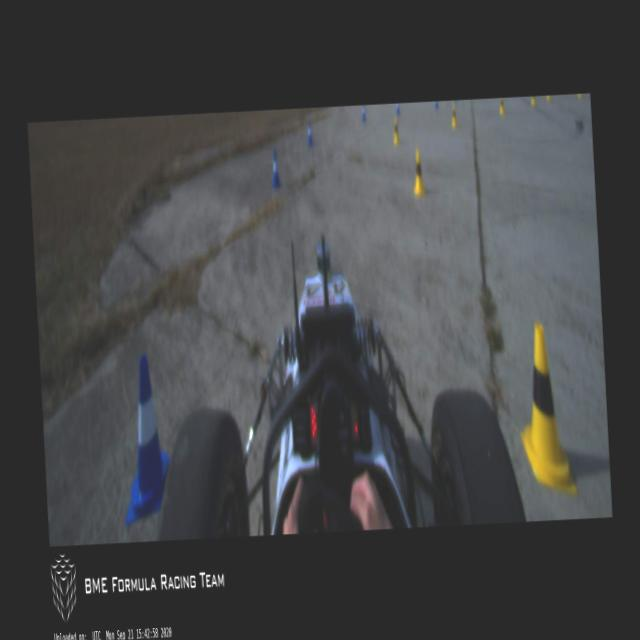blue_cone: (116, 354, 174, 524), (270, 150, 282, 190), (306, 120, 314, 148), (361, 105, 366, 122), (396, 104, 400, 117)
yellow_cone: (515, 324, 578, 499), (412, 150, 426, 196), (392, 118, 400, 146), (450, 104, 458, 130), (499, 98, 505, 116)
